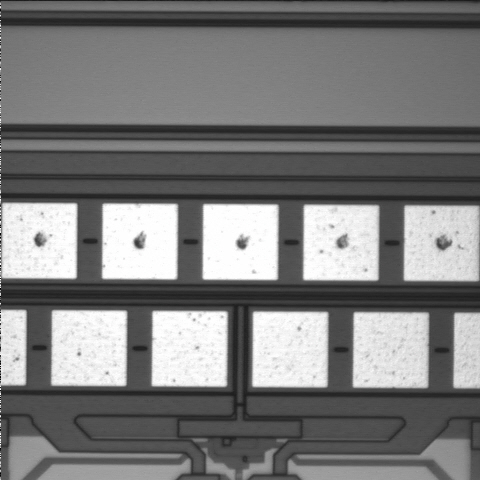pad: (102, 203, 178, 280), (202, 204, 278, 280), (303, 205, 379, 281), (51, 310, 127, 386), (152, 311, 228, 387), (353, 312, 429, 388), (2, 203, 77, 279), (252, 312, 328, 387)
